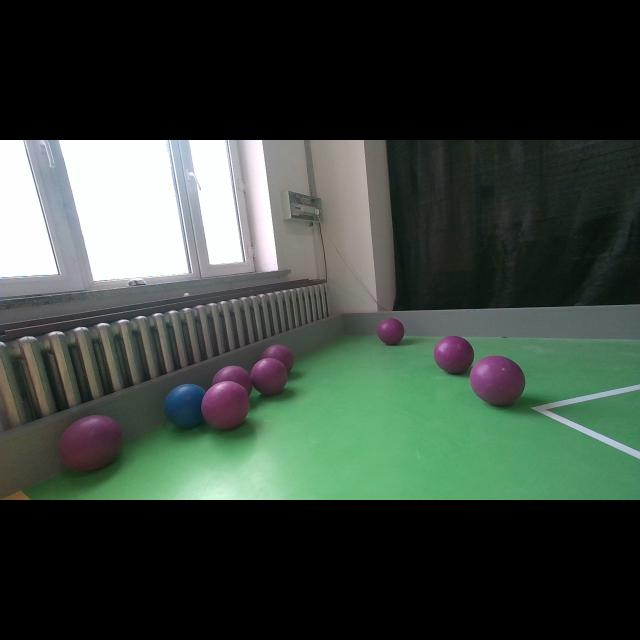B: (164, 384, 206, 430)
P: (58, 414, 122, 472), (470, 356, 526, 406), (202, 381, 250, 429), (434, 336, 474, 374), (250, 358, 288, 396), (262, 346, 294, 372), (378, 318, 404, 344)
